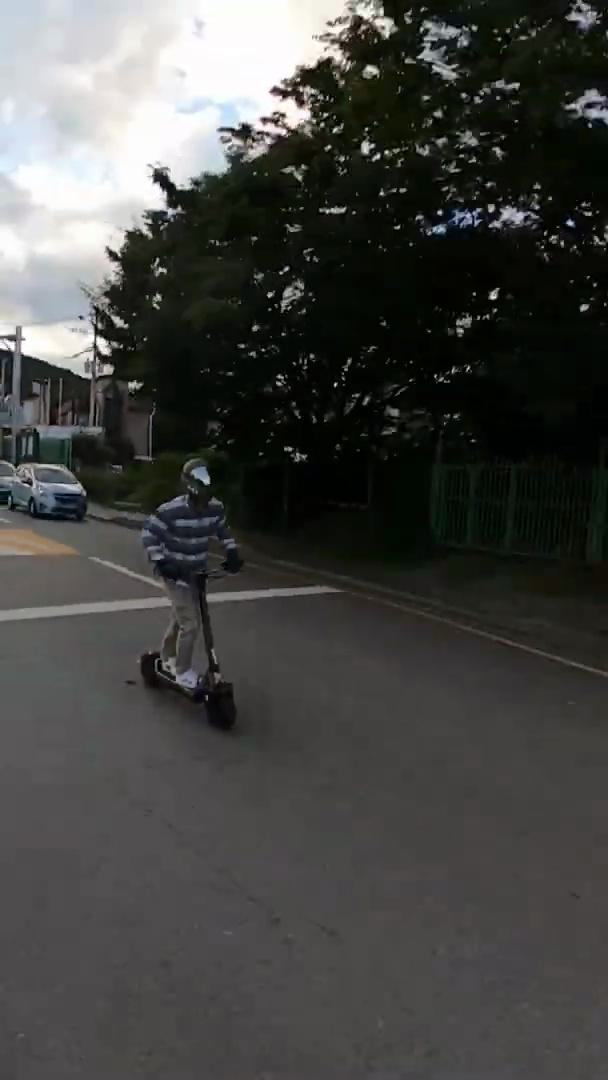helmet: (134, 454, 245, 735)
